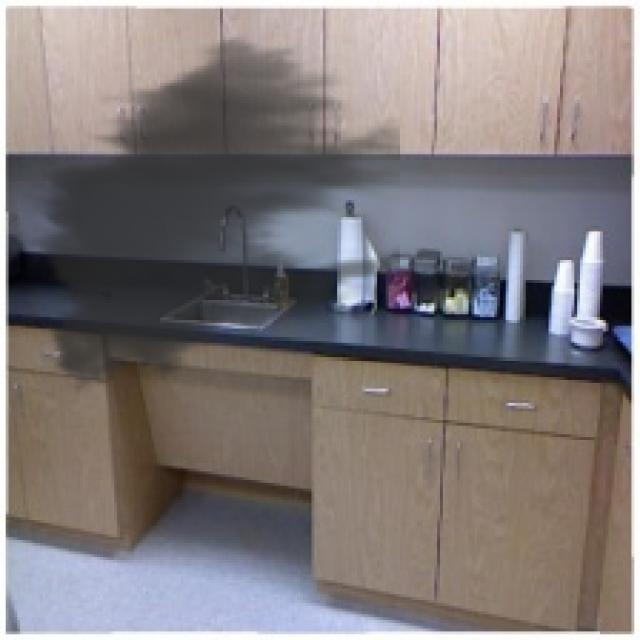smoke: (17, 26, 400, 403)
